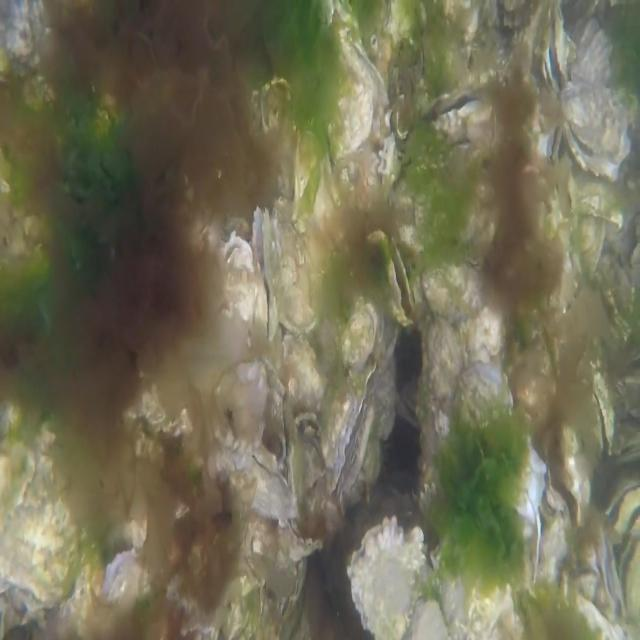Oyster-Closed: (428, 517, 524, 640), (321, 359, 377, 498), (224, 448, 299, 529), (279, 512, 324, 564)
Oyster-Indeterminate: (442, 360, 548, 517), (0, 425, 80, 609), (345, 516, 425, 639), (319, 0, 375, 163), (292, 126, 345, 265), (422, 312, 467, 466), (271, 192, 317, 335), (339, 294, 400, 377), (419, 258, 490, 322), (280, 327, 327, 418)
Oyster-Open: (559, 18, 639, 180), (536, 414, 590, 534), (424, 85, 494, 154), (220, 230, 256, 333), (250, 205, 274, 344), (387, 236, 419, 327), (600, 478, 640, 545), (597, 530, 625, 624), (544, 0, 570, 94), (617, 525, 640, 622), (591, 372, 613, 458)
